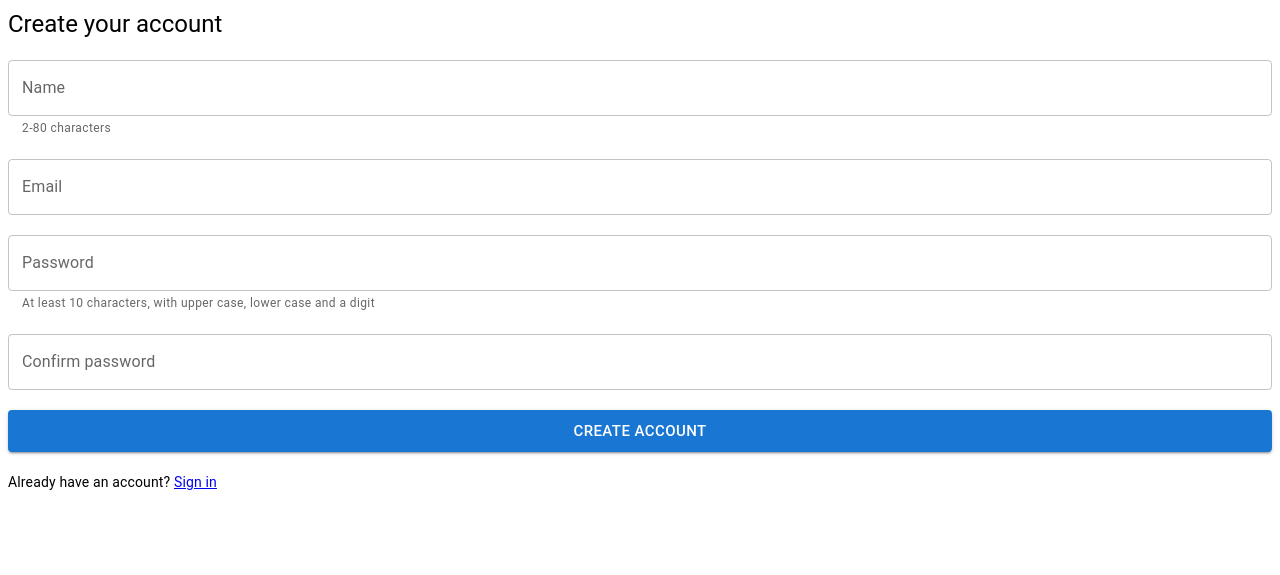
Test: RegisterForm › shows a form-level error for a failure that is not field-specific
The width and height of the screenshot is (1280, 575).
Type "Ada Lovelace" into the field labelled "Name". click: (640, 88)
box: [8,60,1272,116]
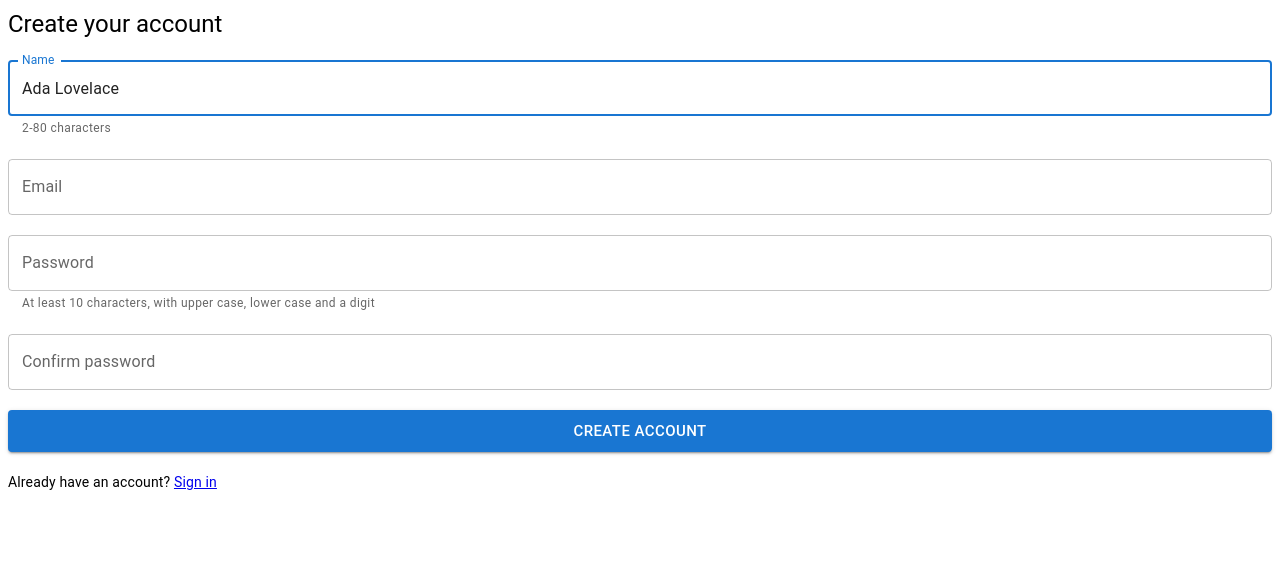
Type "ada@example.com" into the field labelled "Email". click: (640, 187)
box: [8,159,1272,215]
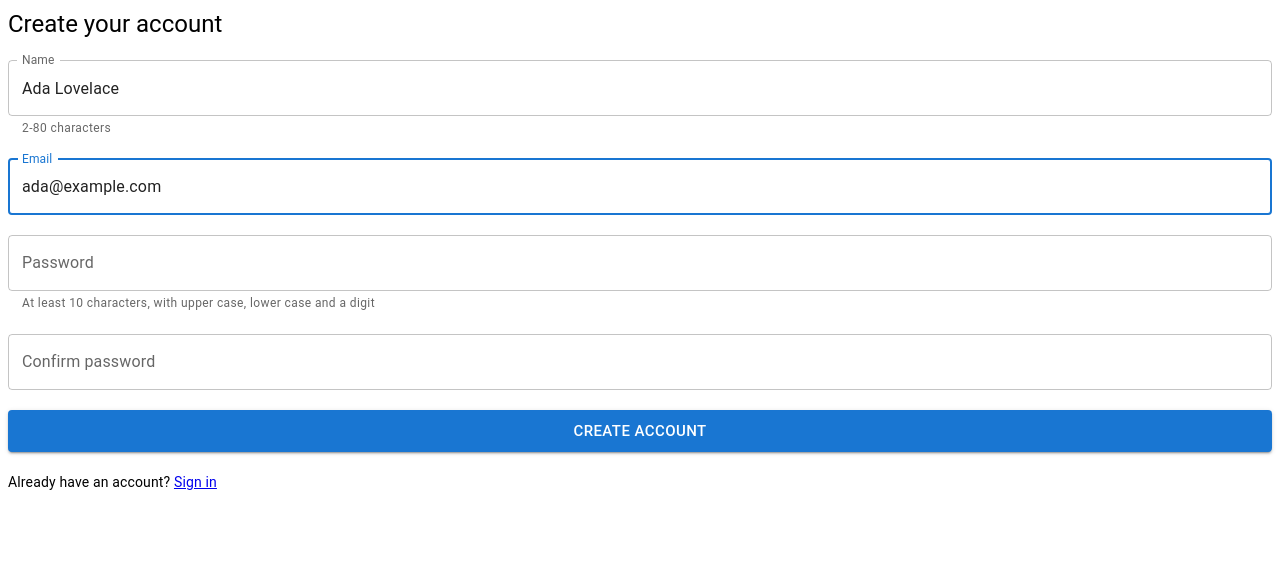
Type "Str0ngPassword" into the password field labelled "Password". click: (640, 263)
box: [8,235,1272,291]
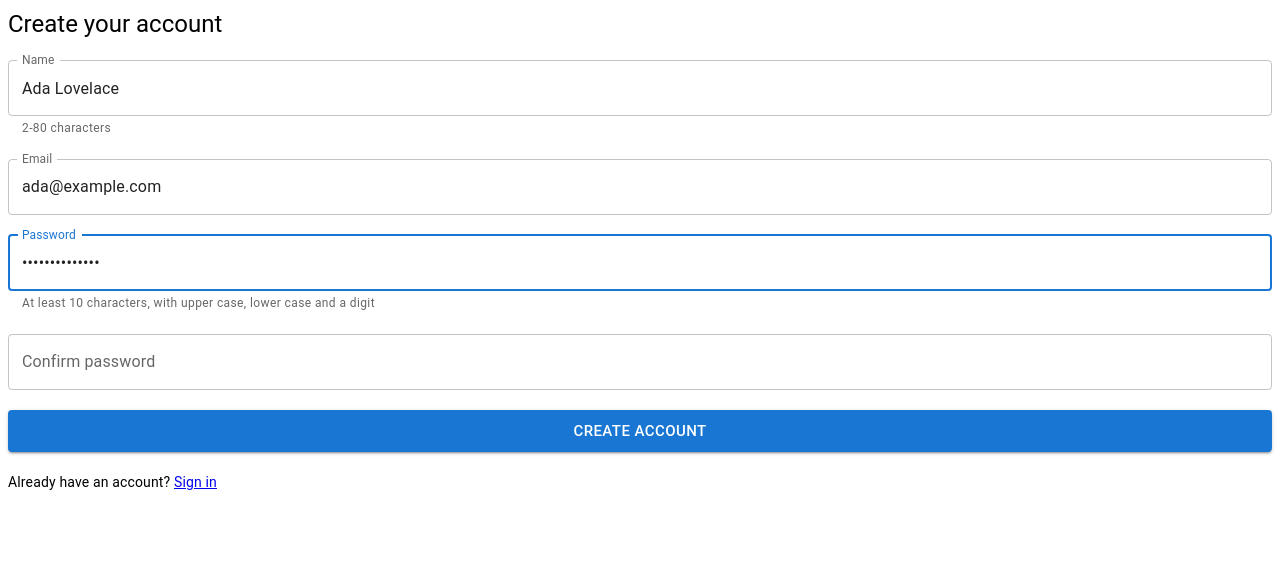
Type "Str0ngPassword" into the password field labelled "Confirm password". click: (640, 362)
box: [8,334,1272,390]
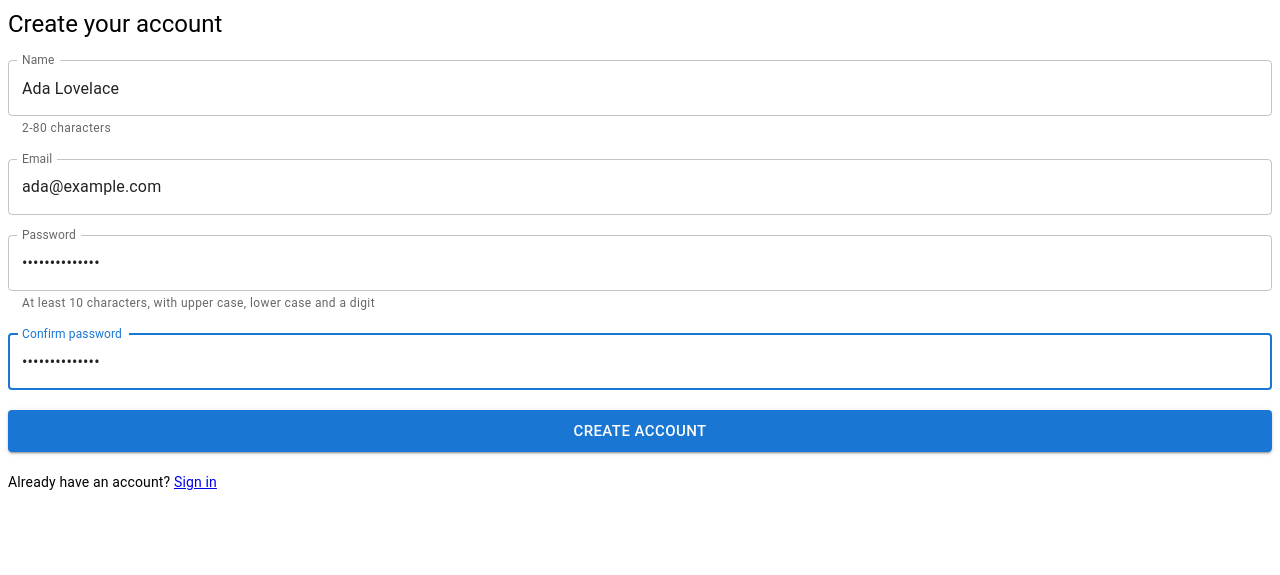
Click the button "Create account". click: (640, 431)
box: [8,410,1272,452]
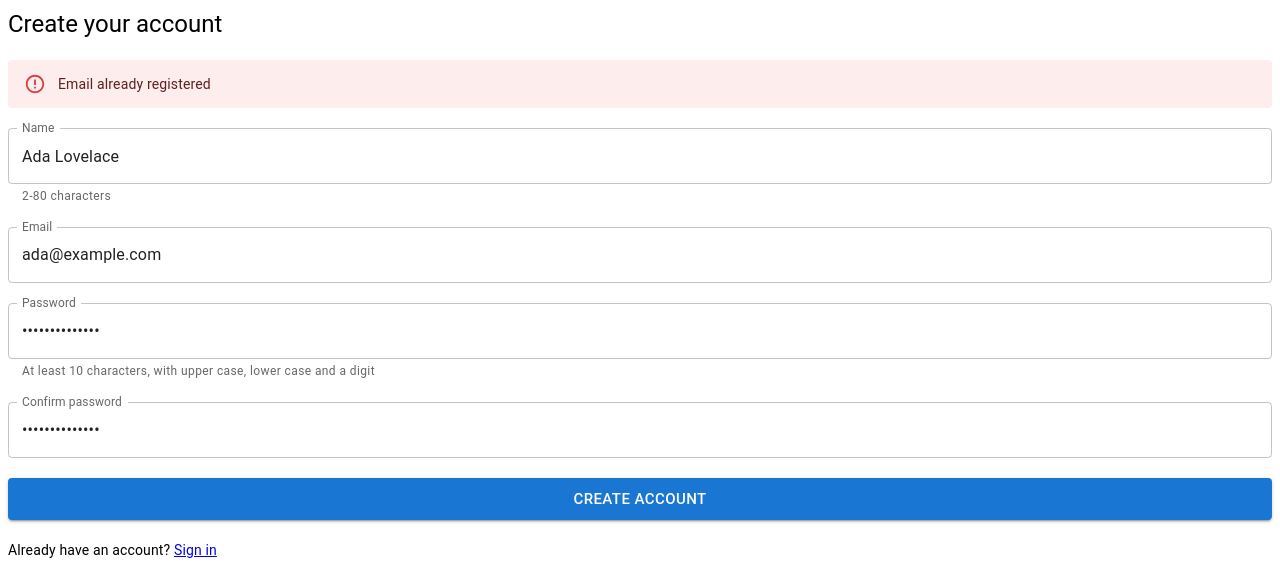
Check: the message reads "Email already registered", box [58,76,211,92]
